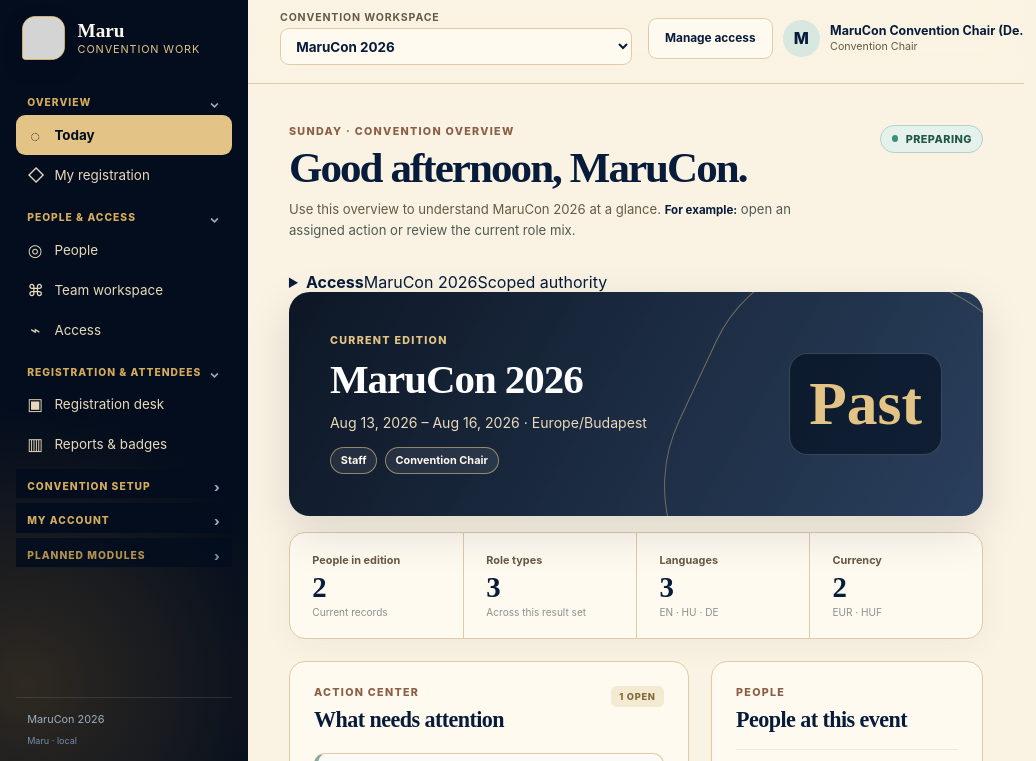
Test: Management Console › connects structure, positions, assignments, availability, and shifts honestly
Expected: the heading "MaruCon 2026" is shown, [330, 356, 583, 402]
Click the button "⌘ Team workspace" at (124, 290), box [16, 270, 232, 310]
(page scrolled)
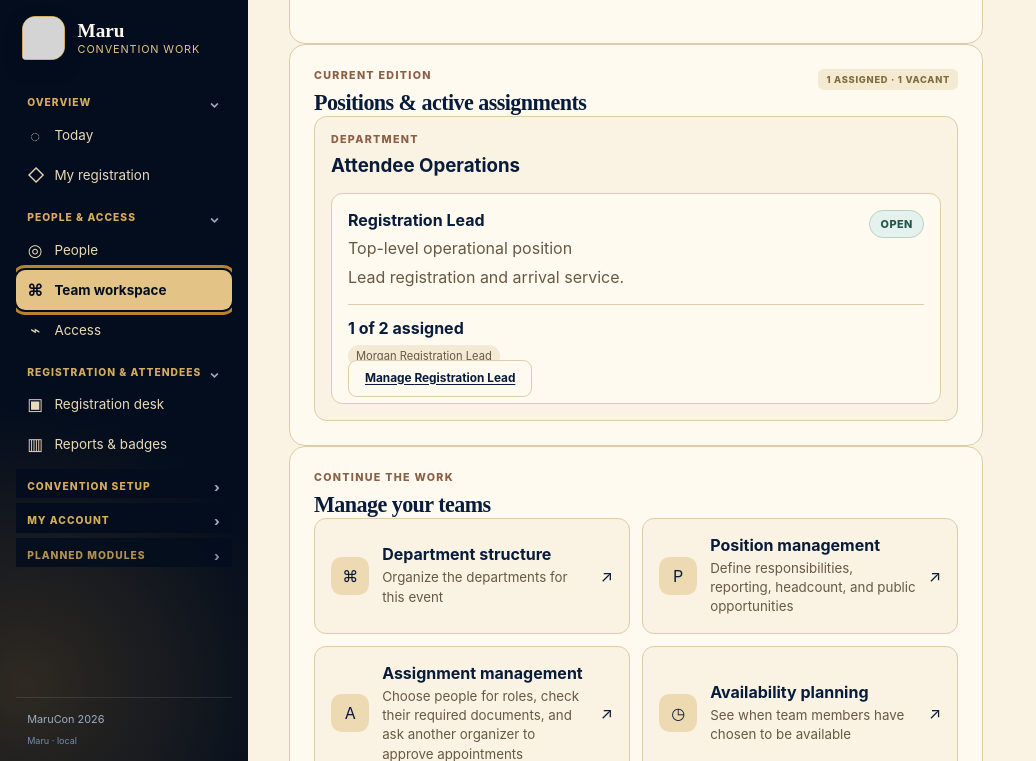
Expected: the heading "Registration Lead" is shown, [348, 210, 485, 230]
Expected: the list item "Morgan Registration Lead" is shown, [348, 345, 500, 367]
Expected: the text "1 of 2 assigned" is shown, [348, 318, 464, 338]
